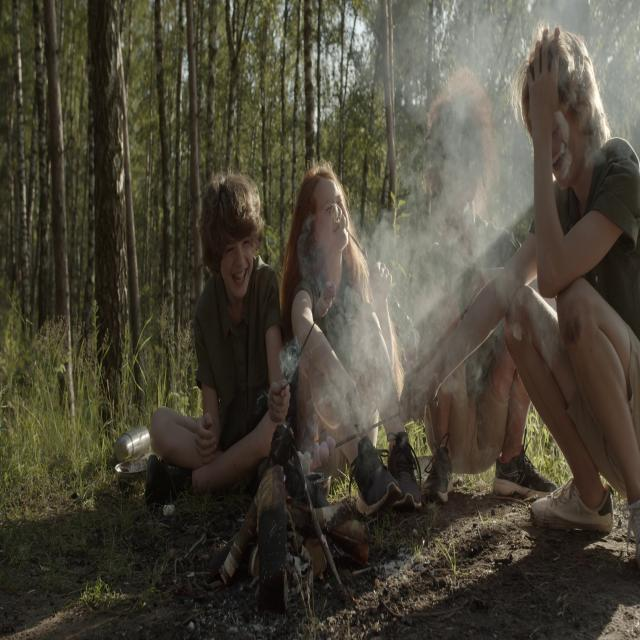Smoke: (309, 0, 536, 446)
